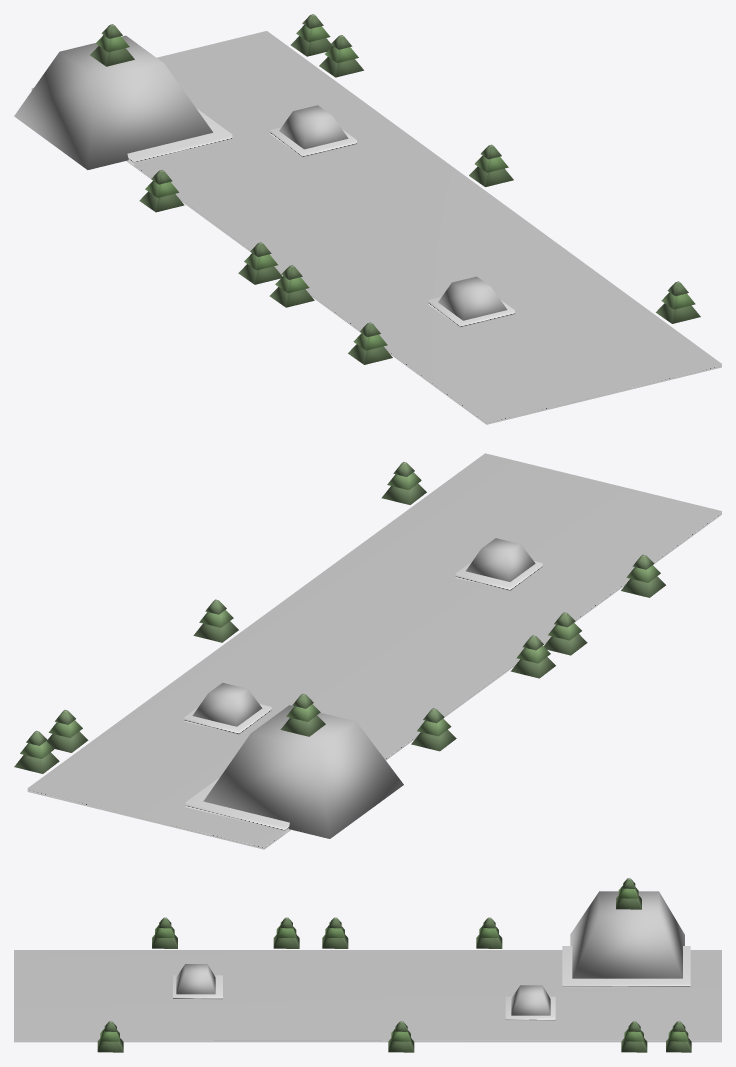
Rendered from River.fbx.
3 views of the same model, one above another, from view 1: azimuth 30°, elevation 25°; view 2: azimuth 150°, elevation 25°; view 3: azimuth 270°, elevation 25° (orthographic). The views are drawn at different scales.
Visible parts, largest first — view 1: River, Rock_001, Rock_002, Rock_000, Schuim, Tree_006, Tree_002, Tree_008, Tree_005, Tree_007, Tree_001, Tree_004 (+4 smaller); view 2: River, Rock_001, Rock_002, Rock_000, Schuim, Tree_008, Tree_002, Tree_007, Tree_006, Tree_003, Tree_001, Tree_000 (+4 smaller); view 3: River, Rock_001, Schuim, Rock_002, Rock_000, Tree_005, Tree_007, Tree_006, Tree_003, Tree_004, Tree_001, Tree_002 (+4 smaller).
Part boxes in pixels (bbox=[...]): River: bbox=[31, 31, 721, 424]; Rock_001: bbox=[14, 35, 212, 169]; Rock_002: bbox=[438, 276, 507, 320]; Rock_000: bbox=[279, 105, 348, 149]; Schuim: bbox=[127, 108, 232, 165]; Tree_006: bbox=[469, 144, 513, 186]; Tree_002: bbox=[139, 170, 184, 212]; Tree_008: bbox=[348, 322, 392, 364]; Tree_005: bbox=[319, 35, 363, 77]; Tree_007: bbox=[656, 281, 700, 323]; Tree_001: bbox=[90, 24, 134, 66]; Tree_004: bbox=[269, 265, 314, 307]; River: bbox=[27, 453, 721, 849]; Rock_001: bbox=[203, 705, 403, 838]; Rock_002: bbox=[466, 538, 535, 581]; Rock_000: bbox=[192, 683, 262, 726]; Schuim: bbox=[185, 777, 289, 833]; Tree_008: bbox=[621, 554, 665, 597]; Tree_002: bbox=[411, 708, 456, 751]; Tree_007: bbox=[381, 462, 426, 504]; Tree_006: bbox=[193, 599, 238, 642]; Tree_003: bbox=[14, 730, 59, 773]; Tree_001: bbox=[280, 693, 325, 736]; Tree_000: bbox=[510, 635, 555, 678]; River: bbox=[14, 950, 721, 1042]; Rock_001: bbox=[570, 891, 684, 978]; Schuim: bbox=[562, 946, 690, 987]; Rock_002: bbox=[176, 964, 215, 994]; Rock_000: bbox=[511, 985, 550, 1015]; Tree_005: bbox=[621, 1021, 647, 1052]; Tree_007: bbox=[97, 1021, 123, 1052]; Tree_006: bbox=[388, 1021, 414, 1052]; Tree_003: bbox=[666, 1021, 691, 1052]; Tree_004: bbox=[273, 917, 299, 948]; Tree_001: bbox=[616, 878, 641, 909]; Tree_002: bbox=[476, 917, 502, 948].
Size of the model in its own units: 5.16 by 1.67 by 13.13.
